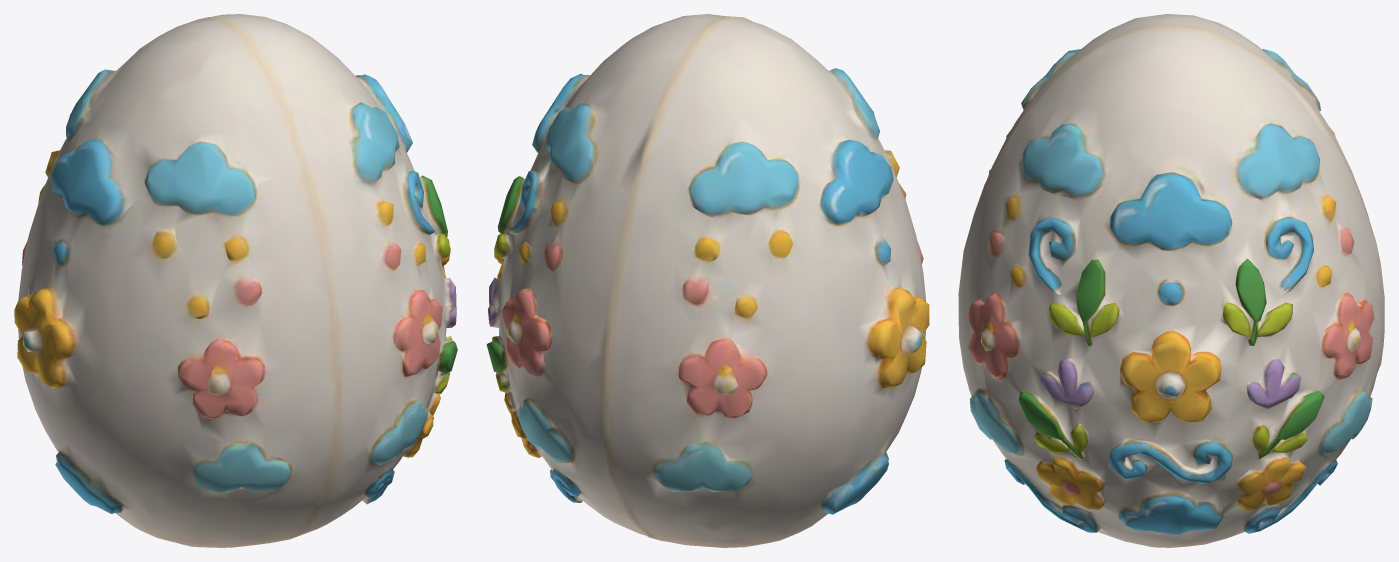
File: food_egg.glb
3 renders of one model, left to right at view 1: azimuth 30°, elevation 25°; view 2: azimuth 150°, elevation 25°; view 3: azimuth 270°, elevation 25°, orthographic.
Parts seen in each view (by area): view 1: tripo_node_3cf4a509-7429-4e14-9922-2ac01f800e60; view 2: tripo_node_3cf4a509-7429-4e14-9922-2ac01f800e60; view 3: tripo_node_3cf4a509-7429-4e14-9922-2ac01f800e60.
Boxes of the visible parts, x1=… form: tripo_node_3cf4a509-7429-4e14-9922-2ac01f800e60: x1=14, y1=14, x2=457, y2=547; tripo_node_3cf4a509-7429-4e14-9922-2ac01f800e60: x1=486, y1=14, x2=929, y2=547; tripo_node_3cf4a509-7429-4e14-9922-2ac01f800e60: x1=958, y1=14, x2=1384, y2=547.
Size of the model in its own units: 0.131 by 0.15 by 0.1172.
1 material, 1 textured.
